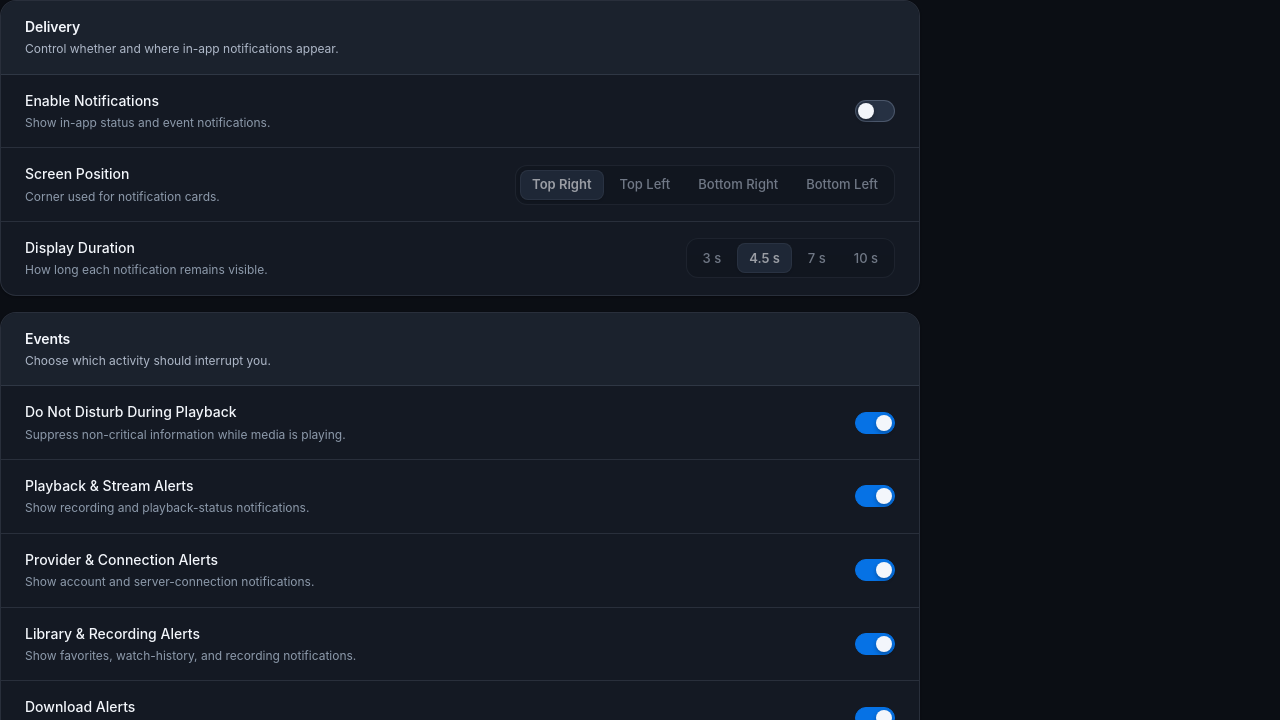
Test case: notification settings disabled-state propagation › disables all child controls when notifications are turned off
The image size is (1280, 720).
Expected: the radio button labelled "Top Right" is disabled, x1=520 y1=170 x2=604 y2=200
Expected: the radio button labelled "Top Left" is disabled, x1=608 y1=170 x2=682 y2=200
// Enable notifications
What coordinates should you click on to do the following:
click the checkbox named "Enable notifications"
I would click on:
 (875, 111)
Its box is x1=855 y1=95 x2=895 y2=127.
(page scrolled)
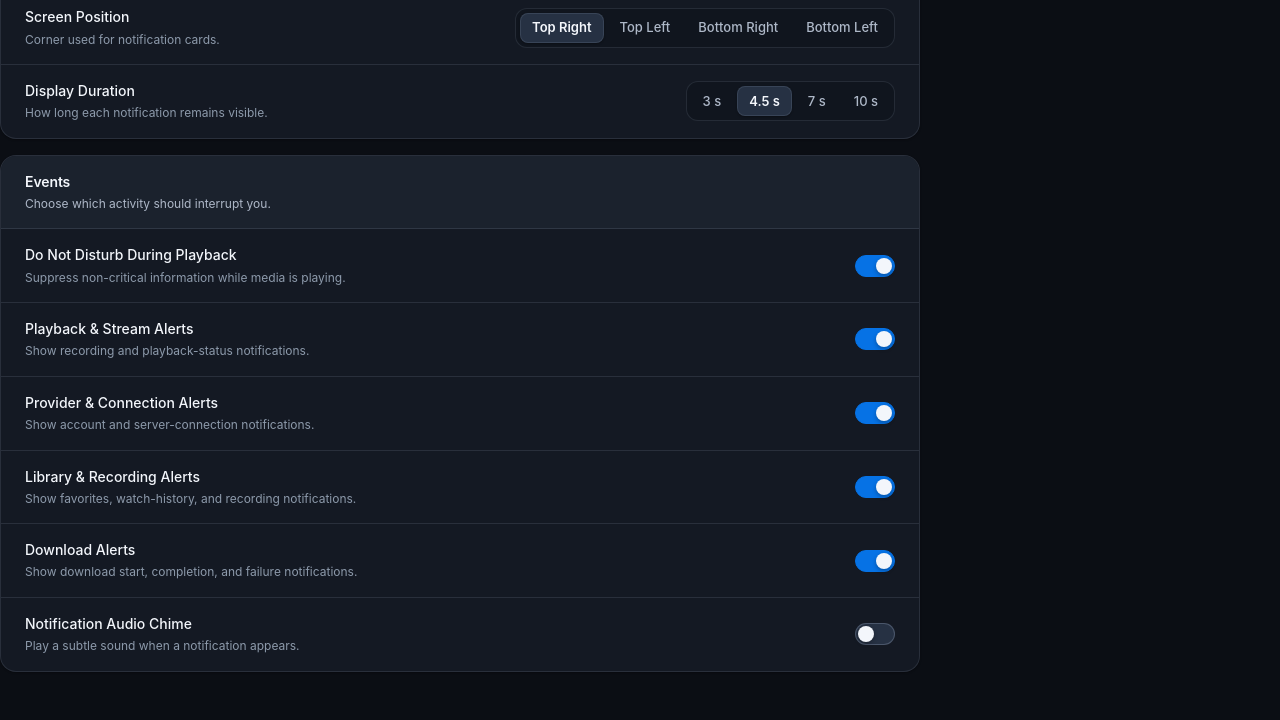
Expected: the radio button labelled "Top Right" is enabled, x1=520 y1=13 x2=604 y2=43
Expected: the radio button labelled "Top Left" is enabled, x1=608 y1=13 x2=682 y2=43
Expected: the radio button labelled "Bottom Right" is enabled, x1=686 y1=13 x2=790 y2=43
